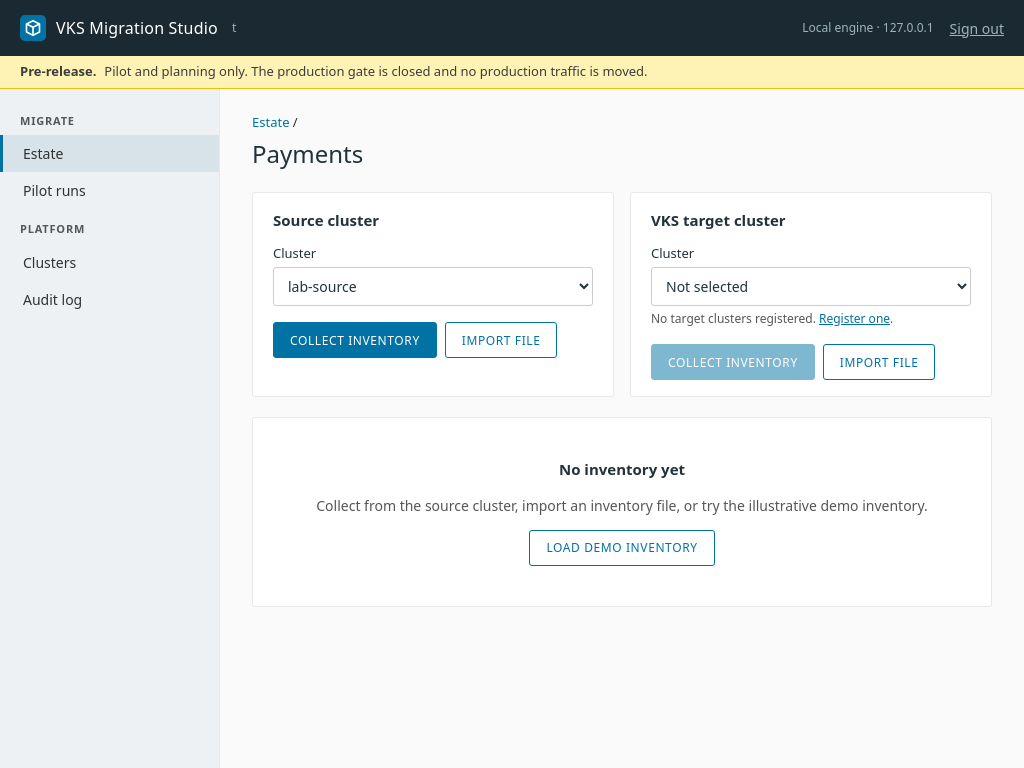
Test: project page › reports a collection that fails immediately
Click the 1st button "Collect inventory" at (355, 340), box [273,322,437,358]
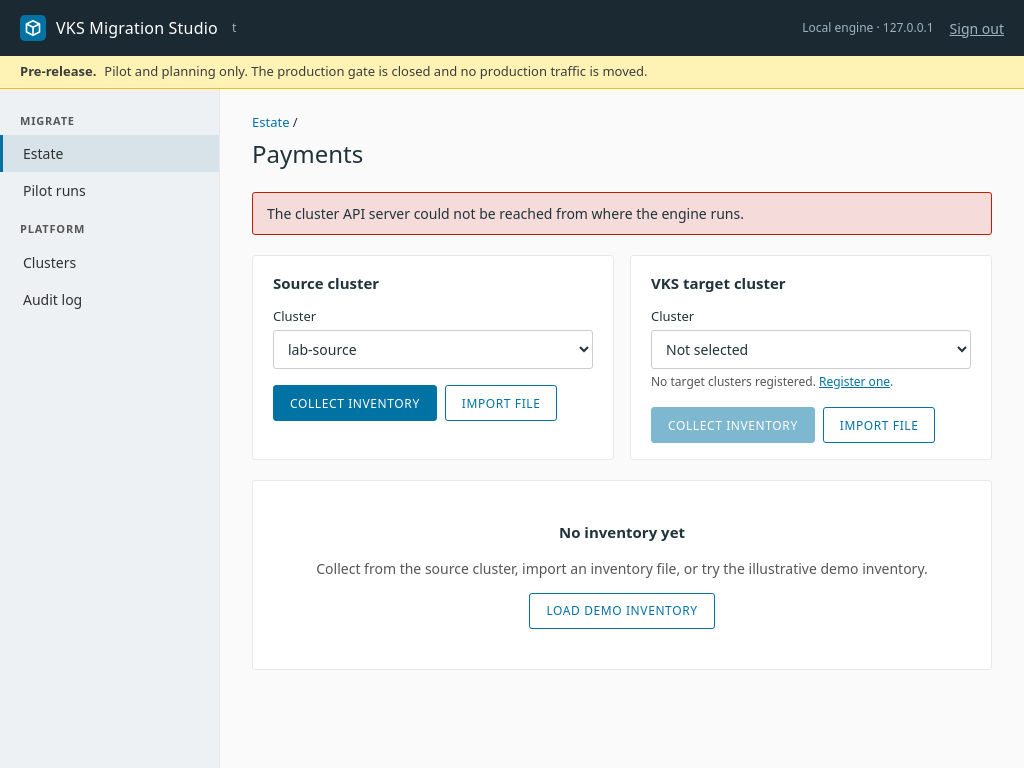
Result: the message shows "could not be reached" at [267,204,744,223]
